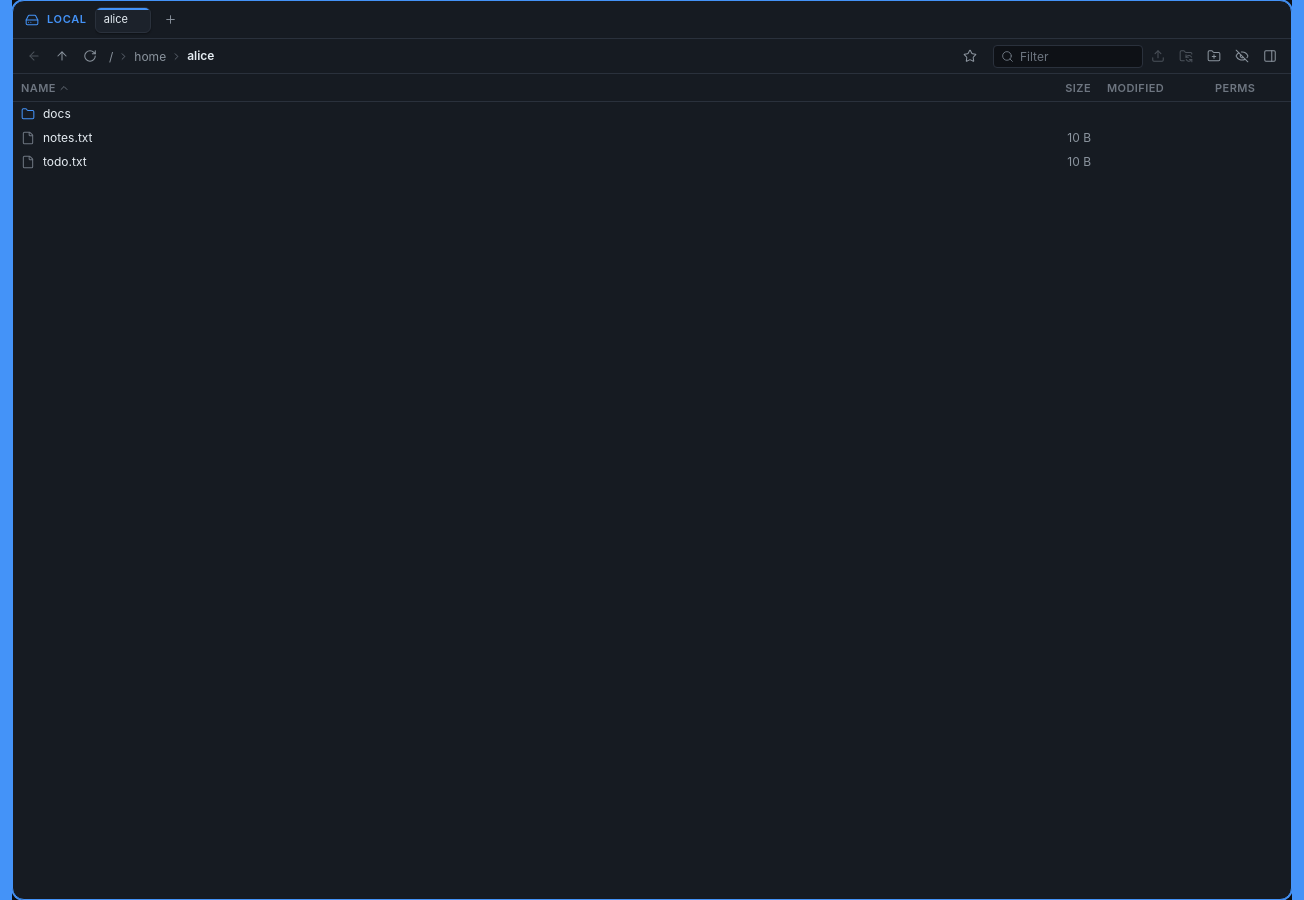
Test case: Pane › filters by name
expect the text "notes.txt" is shown: met, box [43,129,92,147]
Type "TODO" into the search field named "Filter Local files".
click(1068, 56); type("TODO")  # box [993,44,1143,68]
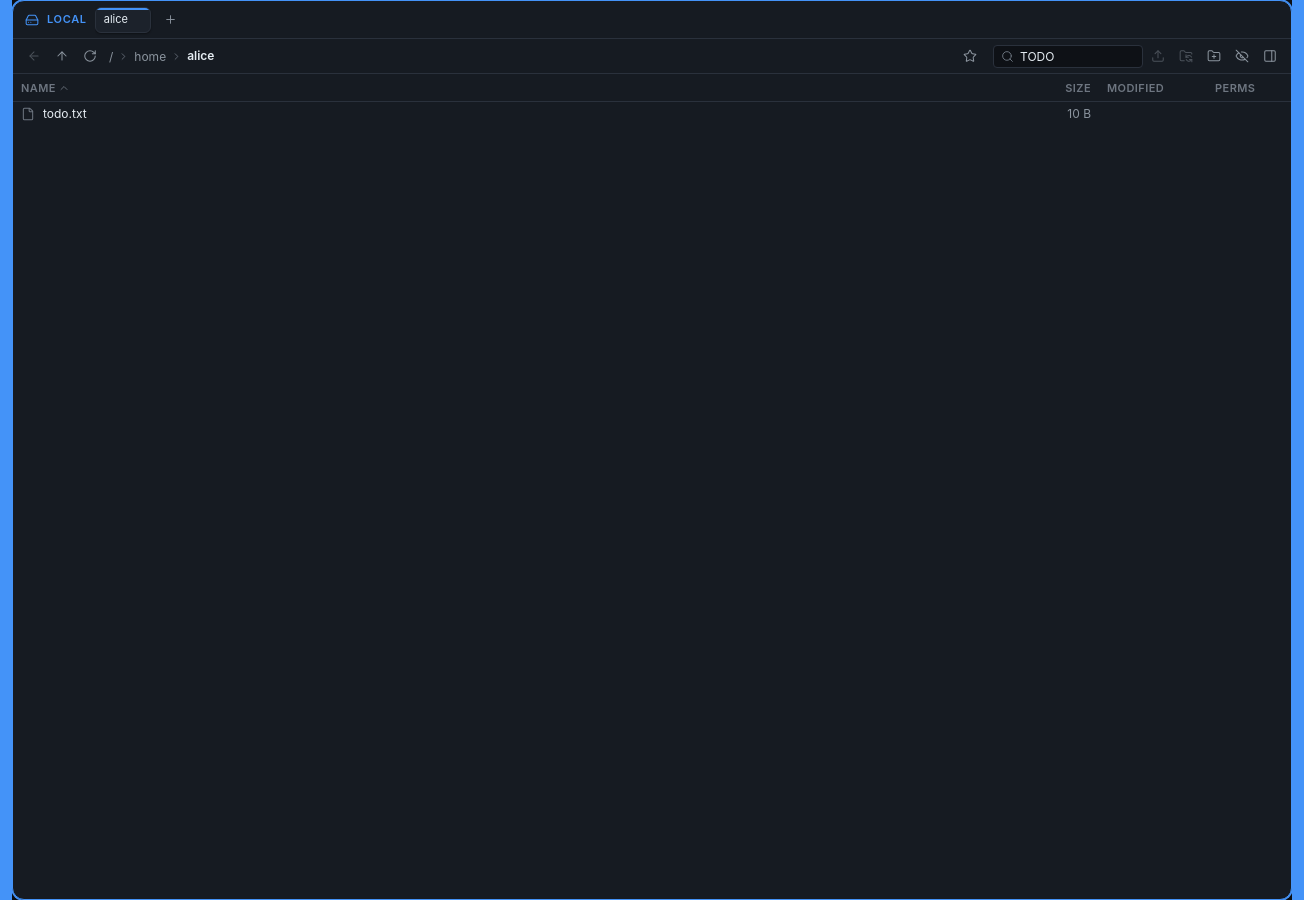
Replace the text in the search field named "Filter Local files" with "zzz" at {"x": 1068, "y": 56}, box [993,44,1143,68]
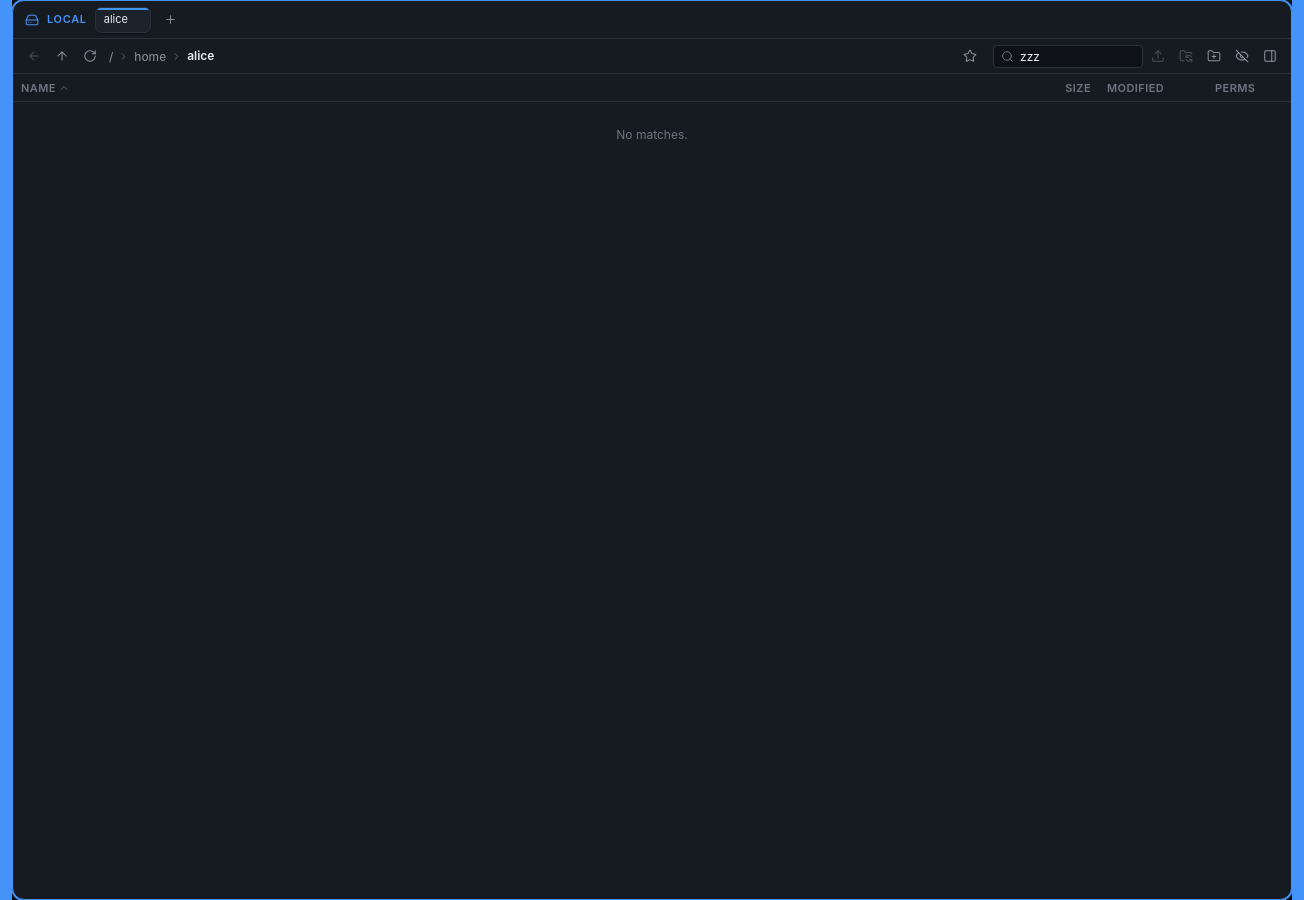
expect the text "No matches." is shown: met, box [616,127,688,142]
